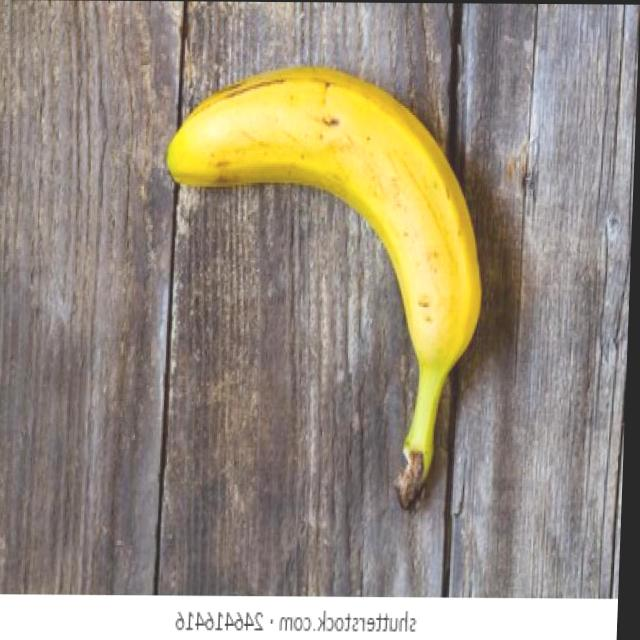banana: (148, 58, 499, 521)
